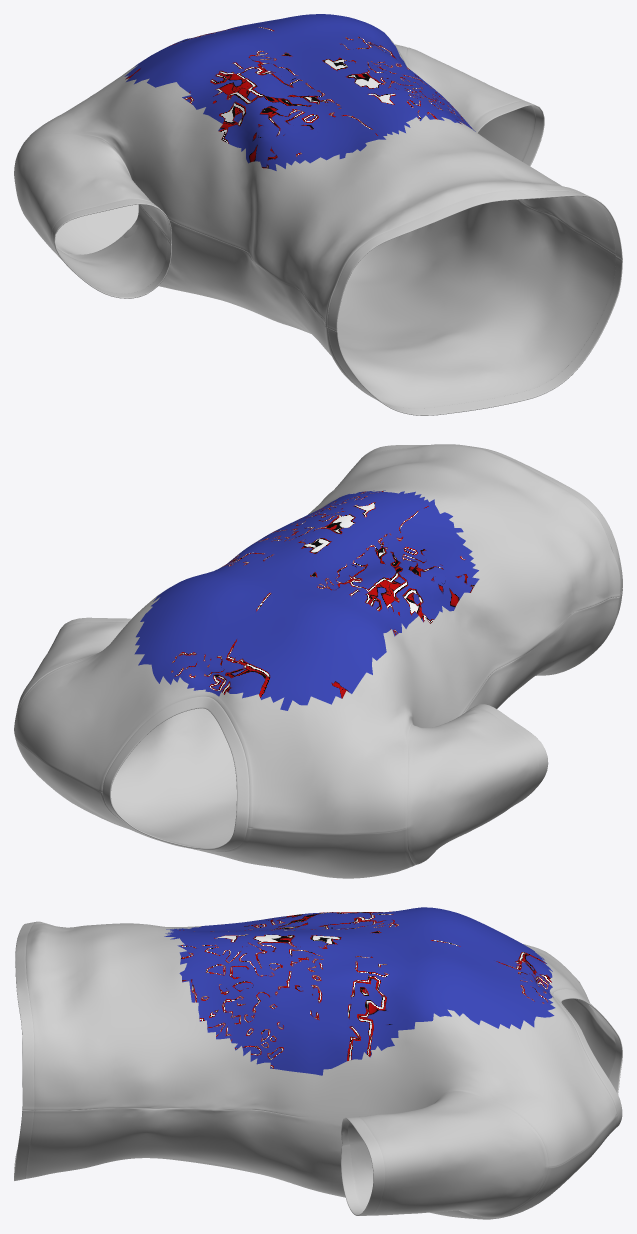
Rendered from spidey.obj.
3 renders of one model, top to bottom at view 1: azimuth 30°, elevation 25°; view 2: azimuth 150°, elevation 25°; view 3: azimuth 270°, elevation 25°, orthographic. The views are drawn at different scales.
Visible parts, largest first — view 1: default; view 2: default; view 3: default.
Part boxes in pixels (x1=…): default: x1=14, y1=14, x2=622, y2=415; default: x1=14, y1=444, x2=622, y2=878; default: x1=14, y1=907, x2=622, y2=1219.
Size of the model in its own units: 3.03 by 1.46 by 3.38.
